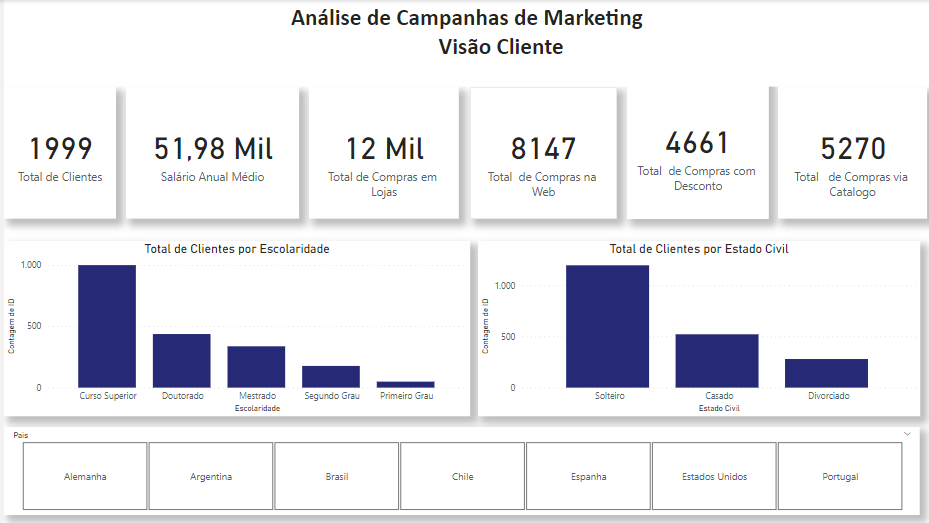

Layout of this report page (visuals, bound fields, positions):
{"tool":"powerbi","page":{"name":"Visão Cliente","canvas":[1280,720],"ordinal":0},"visuals":[{"type":"card","fields":{"Values":["CountNonNull(DadosMarketing.ID)"]},"box":[0,119.6,154,181.5],"z":0},{"type":"card","fields":{"Values":["Avg(DadosMarketing.Salario Anual)"]},"box":[167.7,119.6,237.9,181.5],"z":1},{"type":"card","fields":{"Values":["Sum(DadosMarketing.Numero de Compras na Loja)"]},"box":[419.3,119.6,206.2,181.5],"z":2},{"type":"card","fields":{"Values":["Sum(DadosMarketing.Numero de Compras na Web)"]},"box":[640.7,119.6,202.1,181.5],"z":3},{"type":"card","fields":{"Values":["Sum(DadosMarketing.Numero de Compras com Desconto)"]},"box":[856.5,103.1,195.2,198],"z":4},{"type":"card","fields":{"Values":["Sum(DadosMarketing.Numero de Compras via Catalogo)"]},"box":[1064.1,119.6,204.9,181.5],"z":5},{"type":"textbox","box":[0,0,1280,119.1],"z":6},{"type":"clusteredColumnChart","title":"Total de Clientes por Escolaridade","fields":{"Category":["DadosMarketing.Escolaridade"],"Y":["CountNonNull(DadosMarketing.ID)"]},"box":[0,331.3,640.7,240.6],"z":7},{"type":"clusteredColumnChart","title":"Total de Clientes por Estado Civil","fields":{"Category":["DadosMarketing.Estado Civil"],"Y":["CountNonNull(DadosMarketing.ID)"]},"box":[651.7,331.3,607.7,240.6],"z":8},{"type":"slicer","fields":{"Values":["DadosMarketing.Pais"]},"box":[0,587.1,1259.4,121],"z":9}]}

Visuals, with their boxes in screenshot pixels (x1, y1, x2, y2), scaled from the page's 1280x720 canvas onto the 929x523 screenshot:
card - CountNonNull(DadosMarketing.ID): x1=0 y1=87 x2=112 y2=219
card - Avg(DadosMarketing.Salario Anual): x1=122 y1=87 x2=294 y2=219
card - Sum(DadosMarketing.Numero de Compras na Loja): x1=304 y1=87 x2=454 y2=219
card - Sum(DadosMarketing.Numero de Compras na Web): x1=465 y1=87 x2=612 y2=219
card - Sum(DadosMarketing.Numero de Compras com Desconto): x1=622 y1=75 x2=763 y2=219
card - Sum(DadosMarketing.Numero de Compras via Catalogo): x1=772 y1=87 x2=921 y2=219
textbox: x1=0 y1=0 x2=928 y2=87
"Total de Clientes por Escolaridade" clusteredColumnChart: x1=0 y1=241 x2=465 y2=415
"Total de Clientes por Estado Civil" clusteredColumnChart: x1=473 y1=241 x2=914 y2=415
slicer - DadosMarketing.Pais: x1=0 y1=426 x2=914 y2=514
